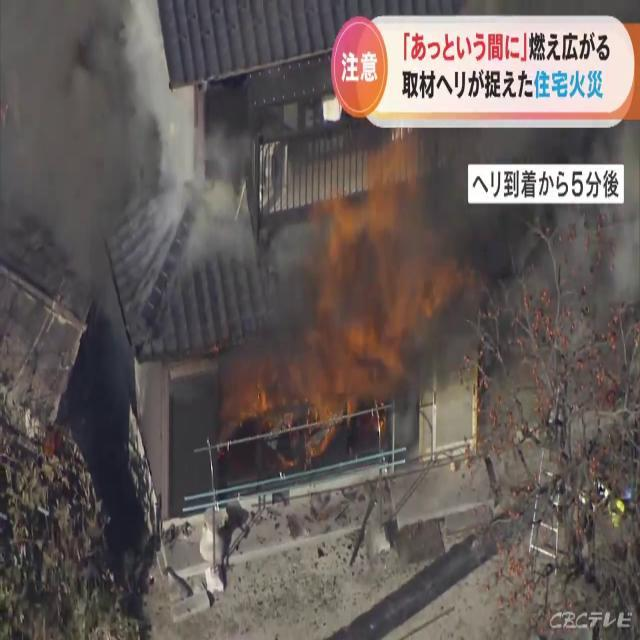Smoke: (235, 144, 490, 415), (0, 0, 184, 299)
